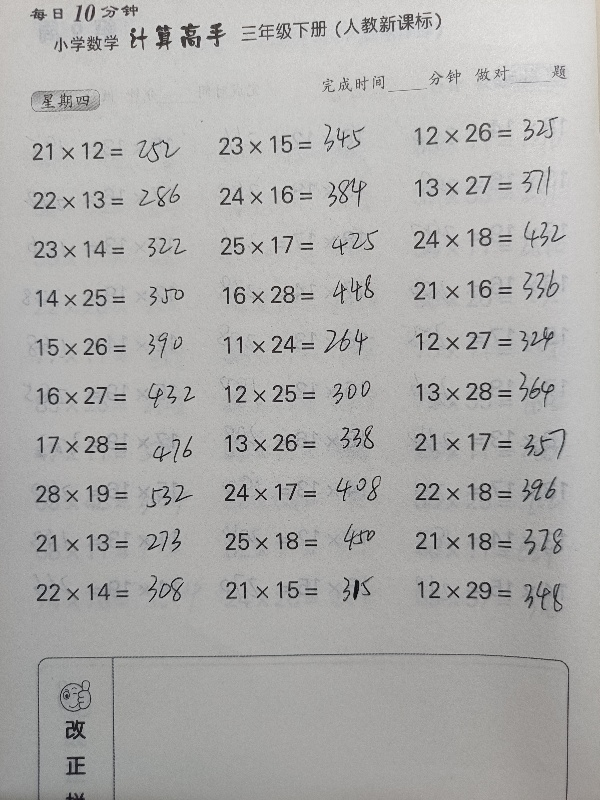equation: (408, 361, 588, 411), (406, 421, 586, 467), (405, 265, 585, 309), (407, 164, 587, 207), (210, 117, 390, 160), (407, 521, 587, 563), (216, 321, 396, 363), (404, 214, 584, 256), (406, 471, 586, 510), (406, 322, 586, 360), (407, 113, 587, 150), (217, 375, 397, 411), (217, 523, 397, 558), (218, 573, 398, 607), (27, 477, 207, 511), (28, 281, 208, 315), (212, 228, 392, 262), (25, 183, 205, 217), (211, 178, 391, 212), (28, 576, 208, 609), (408, 573, 588, 606), (27, 526, 207, 559), (215, 475, 395, 508), (29, 428, 209, 461), (215, 426, 395, 459), (28, 379, 208, 412), (28, 330, 208, 363), (213, 278, 393, 311), (26, 233, 206, 266), (24, 134, 204, 167)
